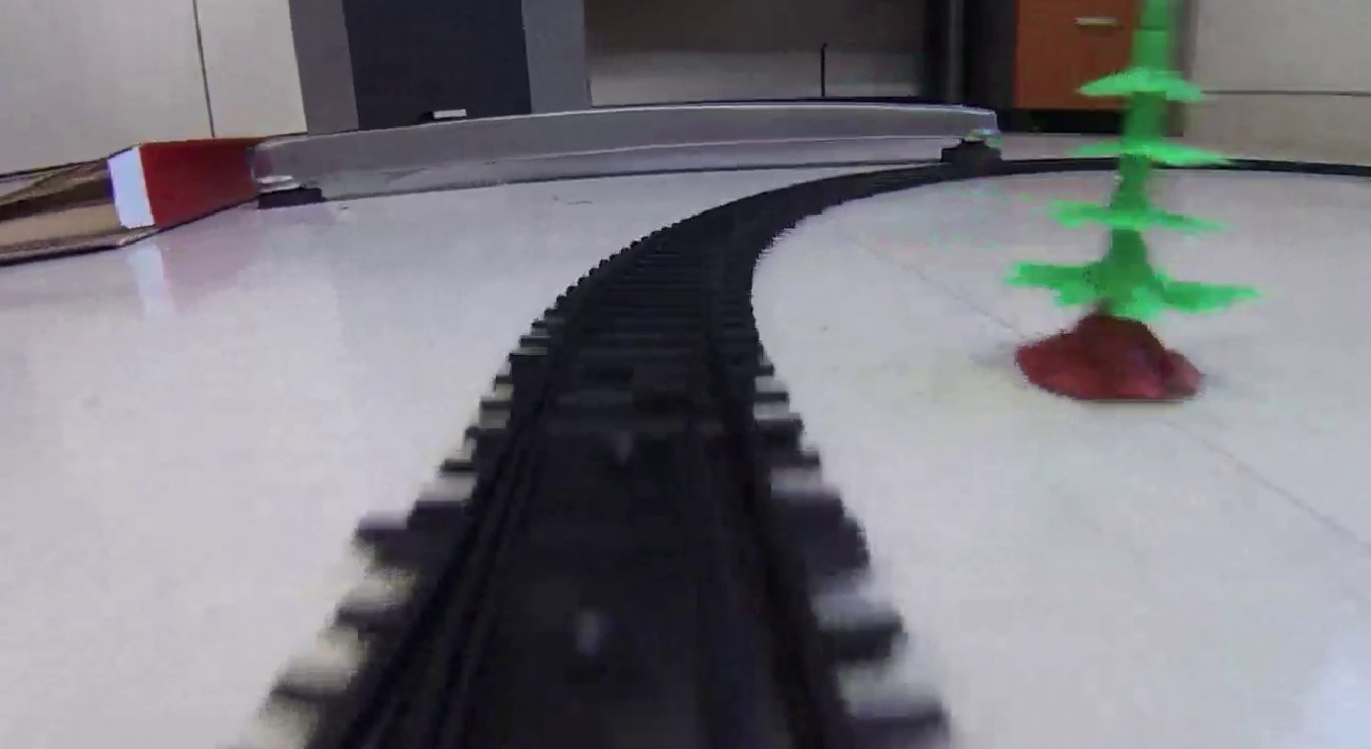tree: (1011, 2, 1258, 405)
